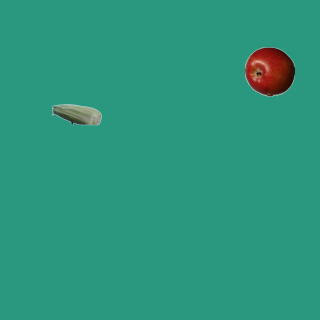Apple Braeburn: (244, 46, 294, 96)
Corn Husk: (51, 89, 101, 139)
